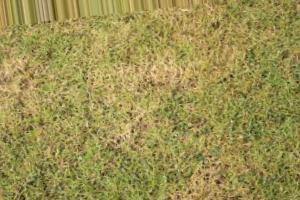patch: (58, 91, 131, 159), (171, 126, 232, 182), (131, 62, 192, 90), (4, 59, 39, 101), (21, 134, 52, 178), (140, 108, 158, 132), (139, 179, 153, 193)
